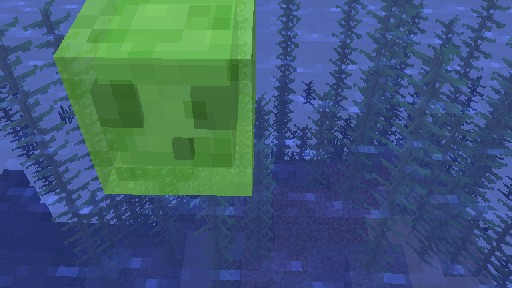slime: (52, 0, 255, 196)
